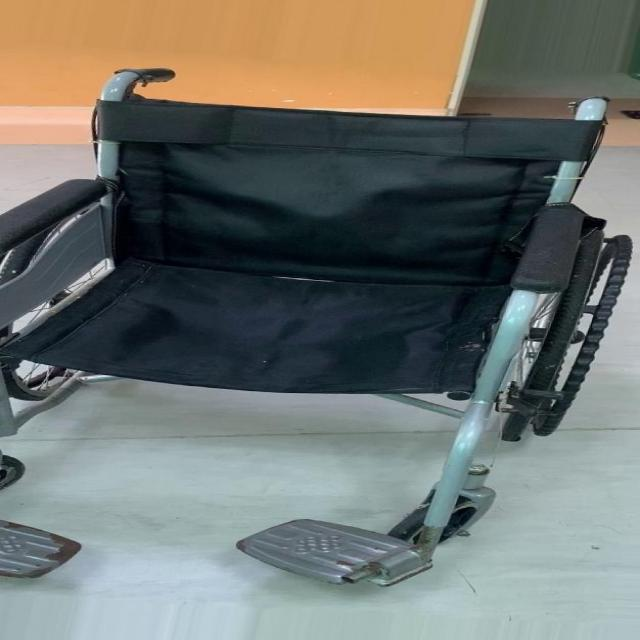wheelchair: (1, 64, 611, 596)
